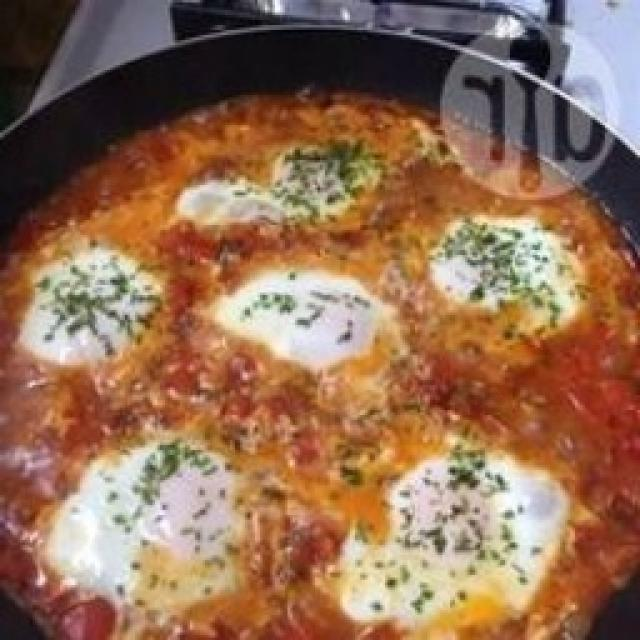Chakchouka: (0, 94, 640, 640)
